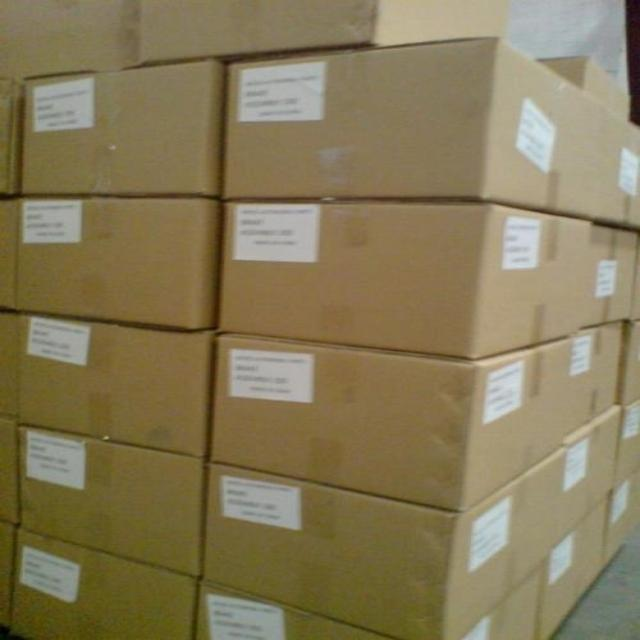box: (197, 406, 619, 637), (210, 323, 624, 511), (219, 195, 593, 358), (227, 39, 569, 210), (19, 58, 228, 198), (15, 424, 205, 578), (17, 313, 212, 456), (16, 195, 224, 329), (135, 2, 509, 64), (5, 527, 199, 638), (195, 576, 389, 637), (558, 80, 629, 227), (0, 1, 137, 76), (543, 502, 609, 638), (580, 223, 638, 327), (540, 57, 634, 120), (468, 564, 547, 636), (2, 75, 23, 194), (611, 475, 639, 564), (618, 121, 639, 233), (2, 196, 19, 311), (2, 413, 19, 527), (2, 306, 19, 416), (618, 400, 638, 493), (620, 321, 639, 403), (2, 519, 14, 630), (627, 237, 638, 320)
